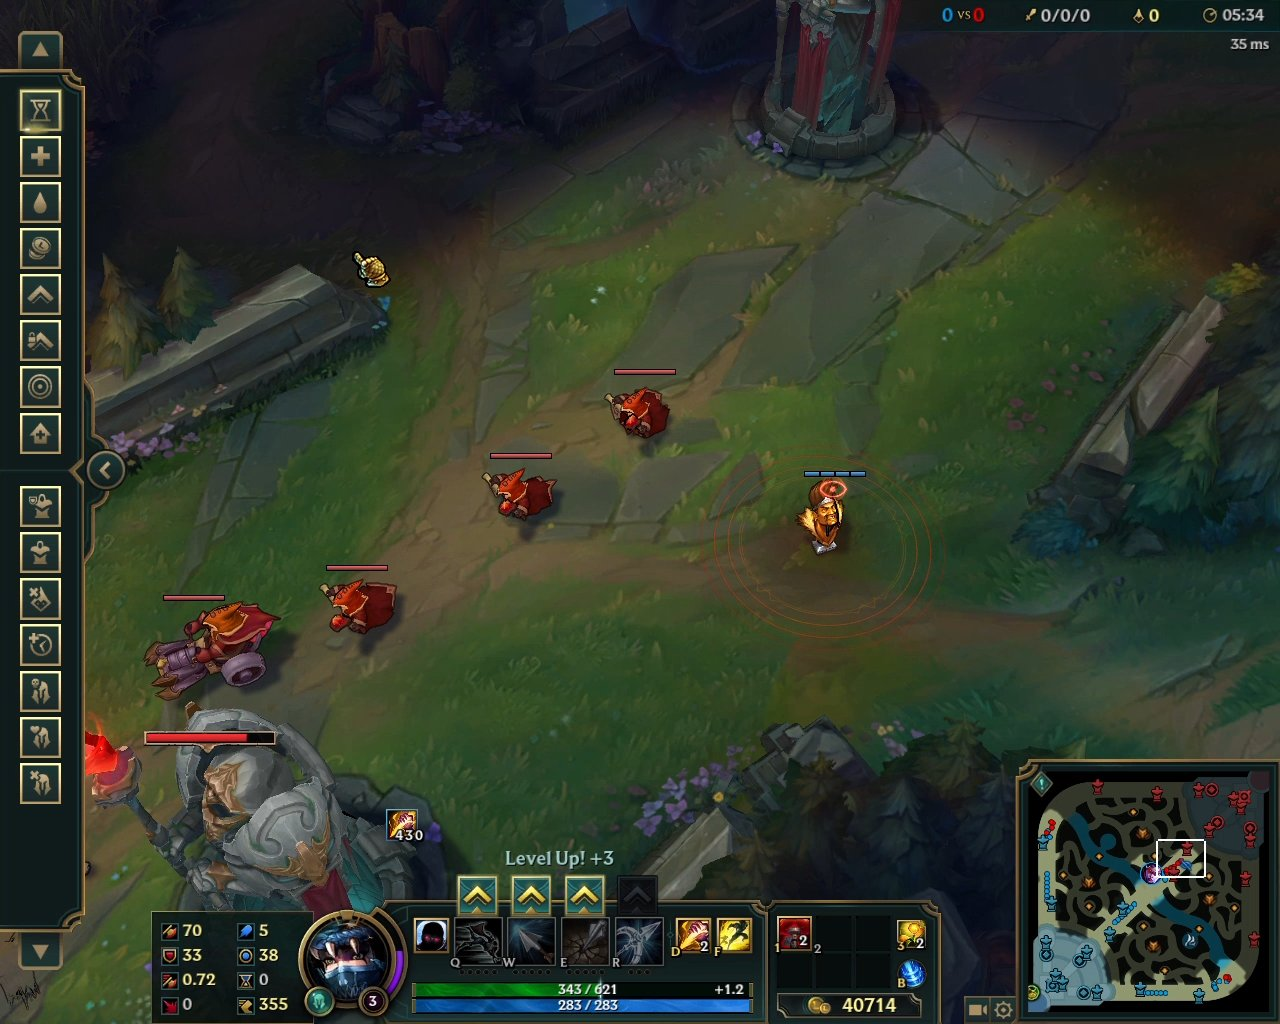EnemyMinion: (139, 591, 287, 709), (316, 561, 408, 644), (602, 366, 680, 446), (479, 450, 562, 526)
Tower: (95, 729, 426, 897), (738, 1, 931, 179)
